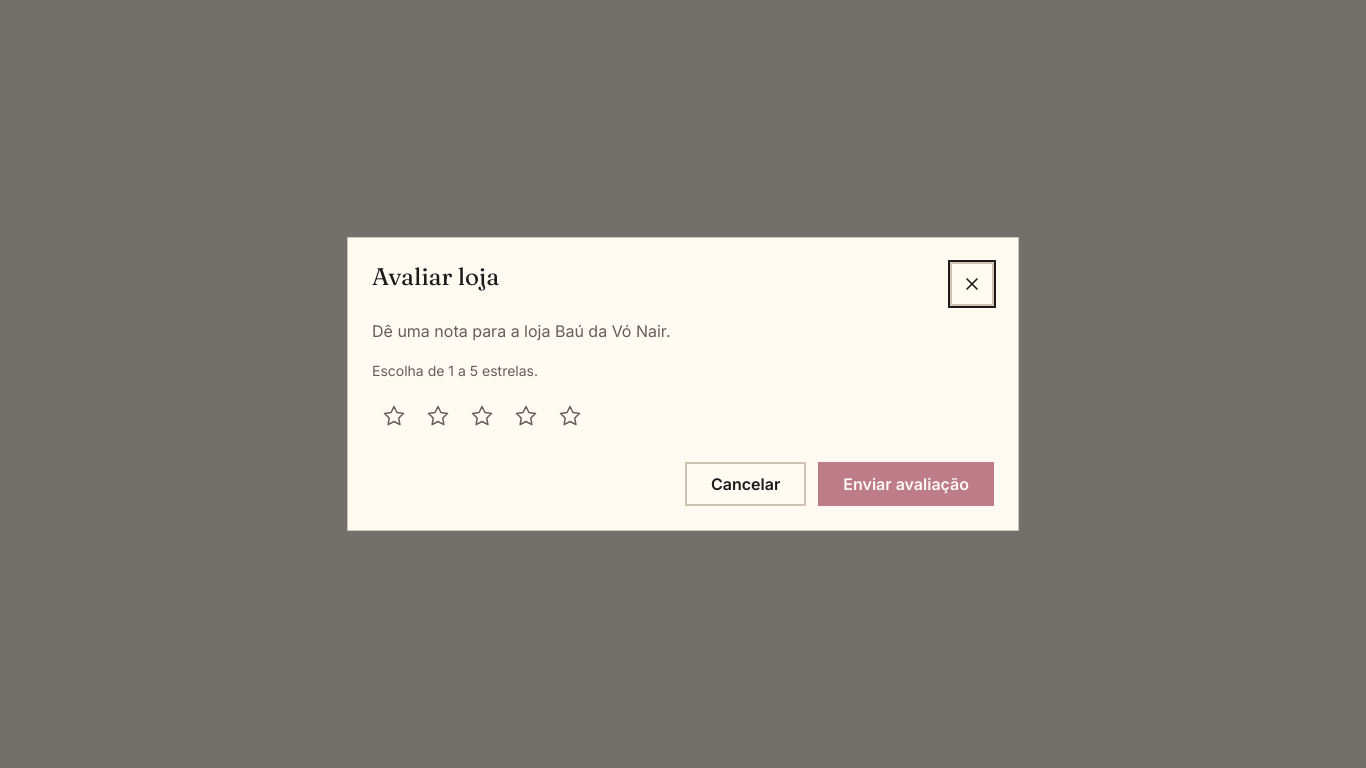
Test case: <RateStoreDialog /> › envia só a nota e mostra a confirmação
Click the radio button named "4 de 5 estrelas": x=526, y=416 [504, 394, 548, 438]
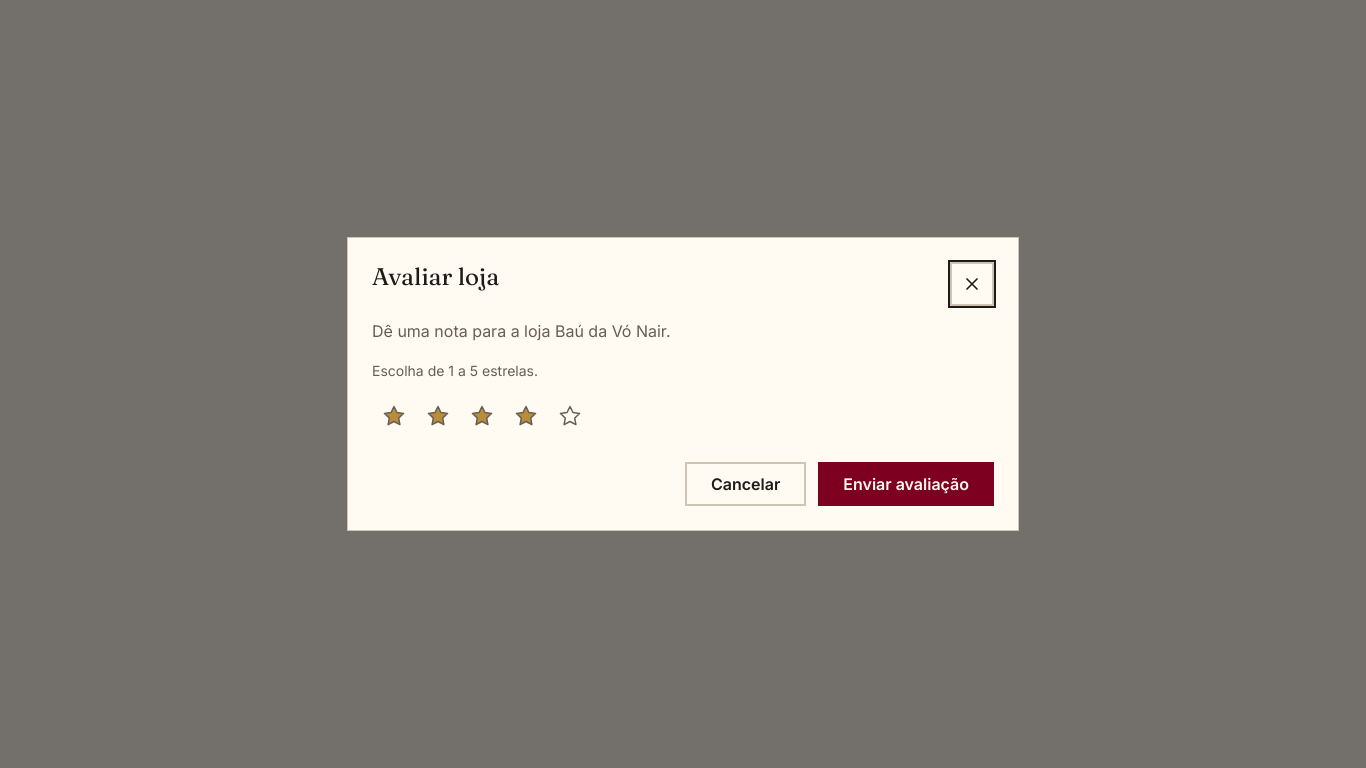
Click the button "Enviar avaliação": x=906, y=484 [818, 462, 994, 506]
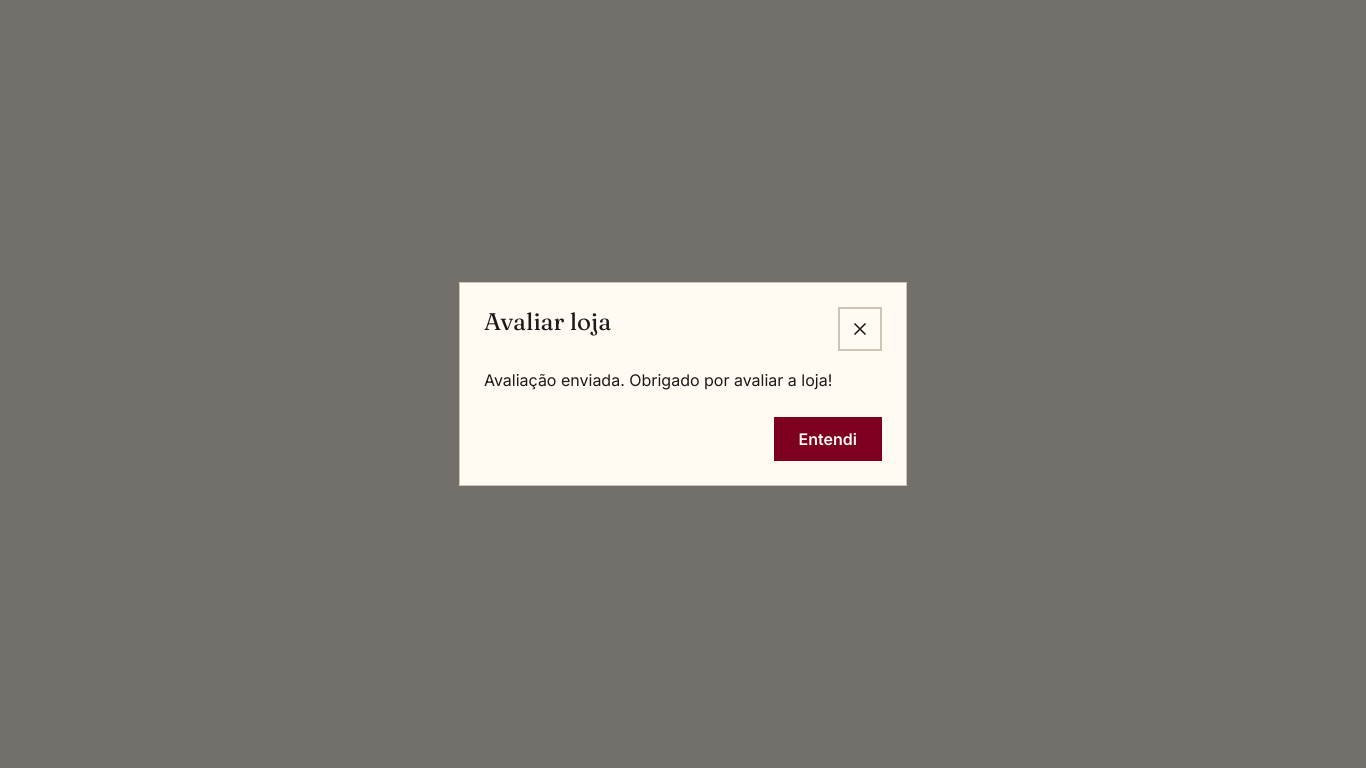
Now the message shows "Avaliação enviada", box [484, 370, 832, 390]
